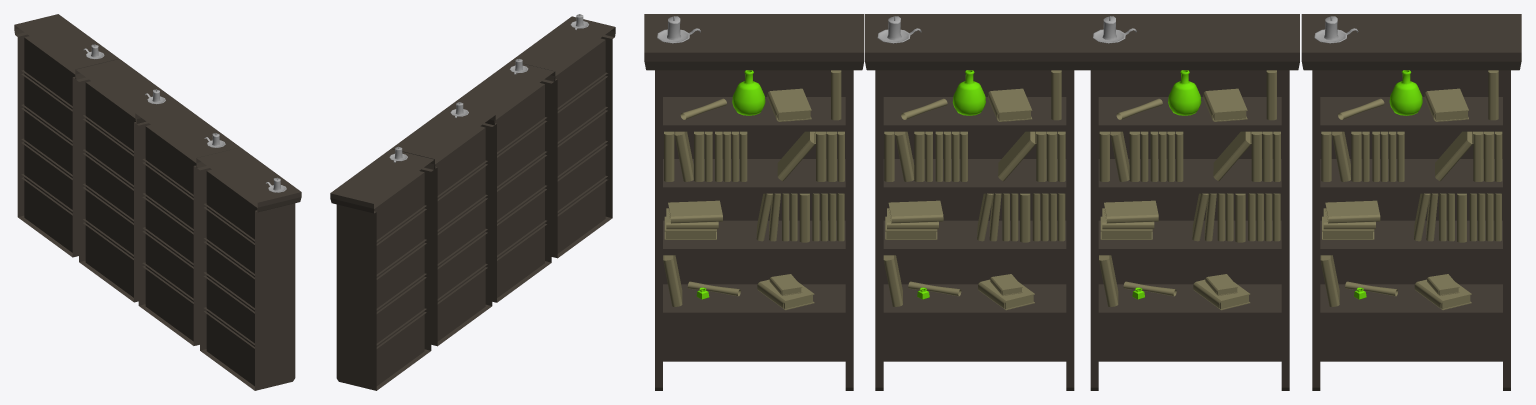
The model's file is wall_library.fbx.
3 views of the same model, side by side, from view 1: azimuth 30°, elevation 25°; view 2: azimuth 150°, elevation 25°; view 3: azimuth 270°, elevation 25° (orthographic). The views are drawn at different scales.
Parts seen in each view (by area): view 1: polySurface549; view 2: polySurface549; view 3: polySurface549.
Part boxes in pixels (bbox=[...]): polySurface549: bbox=[14, 14, 301, 390]; polySurface549: bbox=[330, 14, 615, 390]; polySurface549: bbox=[644, 14, 1521, 390].
Size of the model in its own units: 67.03 by 294 by 640.
